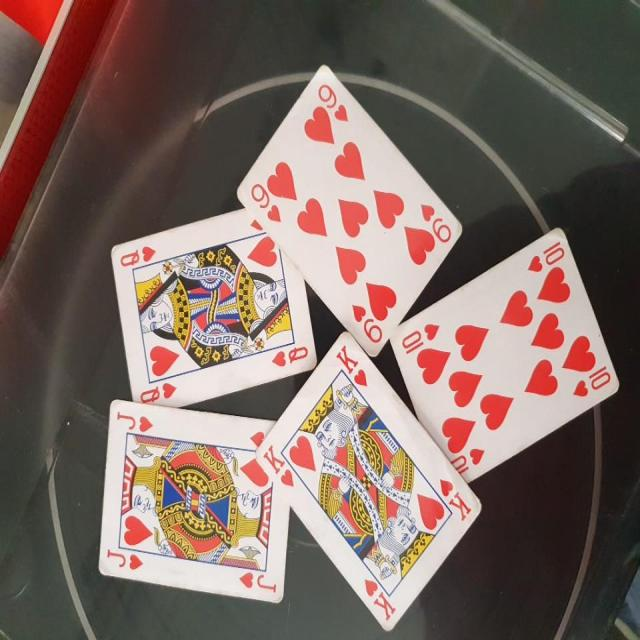10 Hearts: (403, 218, 622, 477)
9 Hearts: (234, 58, 459, 365)
J Hearts: (85, 395, 296, 609)
K Hearts: (259, 334, 490, 635)
Q Hearts: (112, 201, 320, 410)
